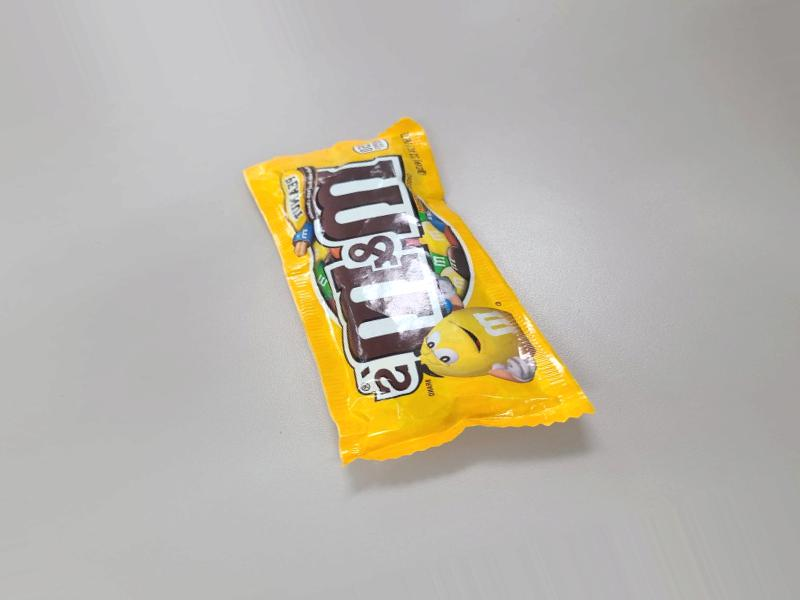m&m: (248, 105, 576, 478)
